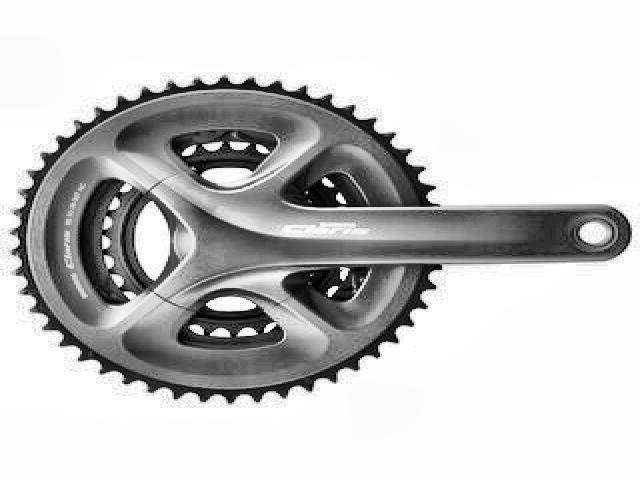cranks_set: (11, 72, 634, 406)
